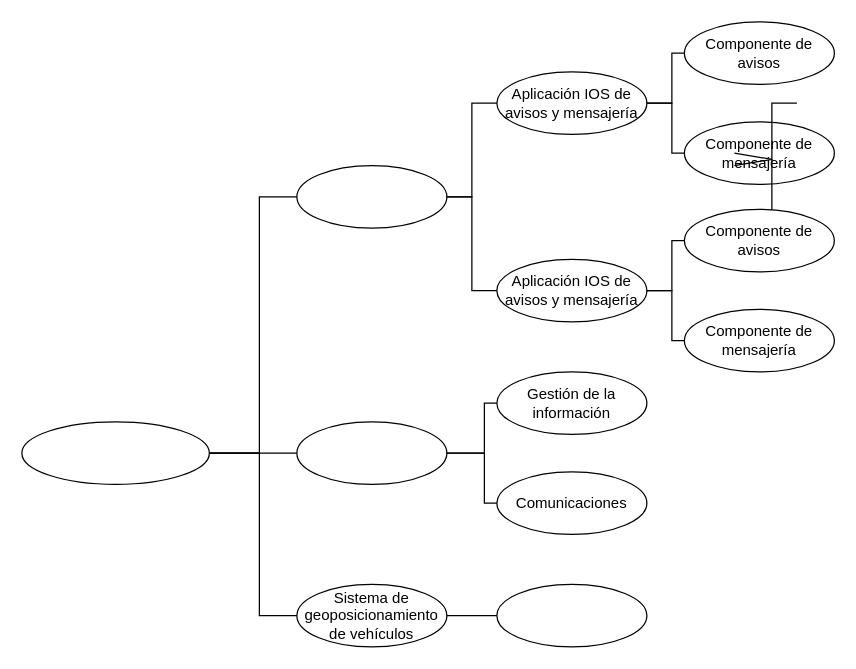
Some shapes in this 856 by 669 pixel diagram are drawn without their labels. The shapes that lost their labels are listed below. From the top down, each one's centre as x and y in pixels, then its label:
the point at 371,196: Aplicaciones de usuario. App de avisos y mensajería
the point at 115,452: Sistema de Teleasistencia Sanitaria
the point at 371,452: Dashboard de seguimiento
the point at 571,615: Geoposicionamiento
